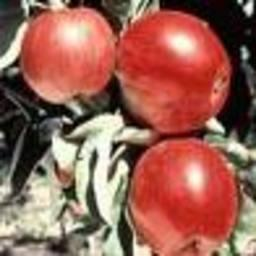apple: (117, 10, 231, 133), (127, 142, 239, 254), (22, 7, 120, 104)
